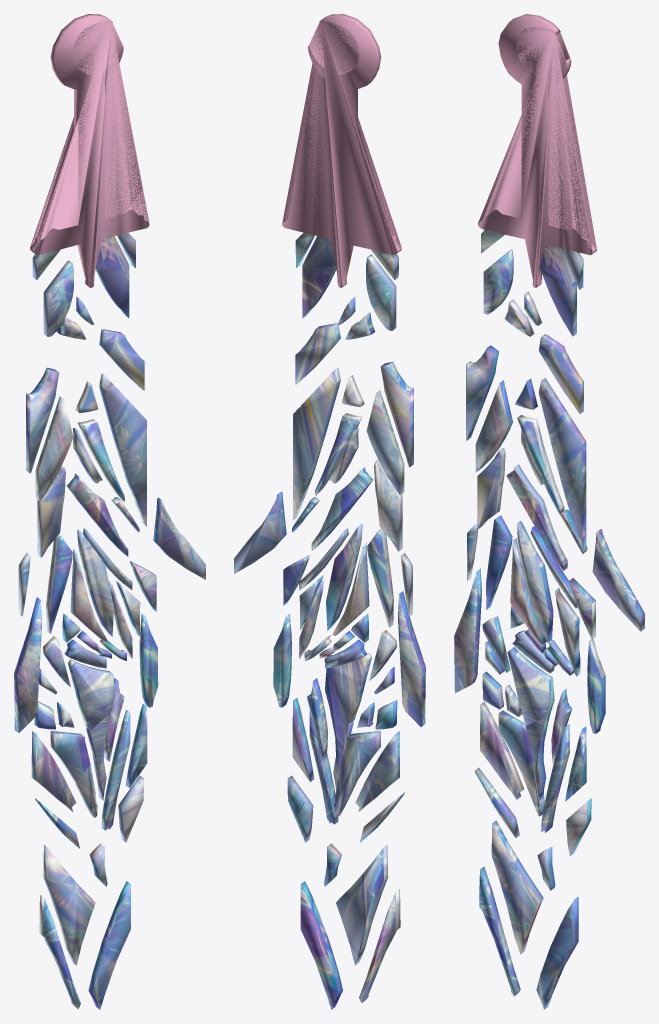
File: Sword.fbx
The picture shows the model from 3 angles, left to right: view 1: azimuth 30°, elevation 25°; view 2: azimuth 150°, elevation 25°; view 3: azimuth 330°, elevation 25°; orthographic projection.
Parts seen in each view (by area): view 1: 1SwordTest; view 2: 1SwordTest; view 3: 1SwordTest.
Boxes of the visible parts, box(x1,y1,x2,y2) form: 1SwordTest: box(14, 14, 205, 1009); 1SwordTest: box(234, 14, 425, 1009); 1SwordTest: box(454, 14, 644, 1009).
Size of the model in its own units: 77.66 by 393 by 6.24.
